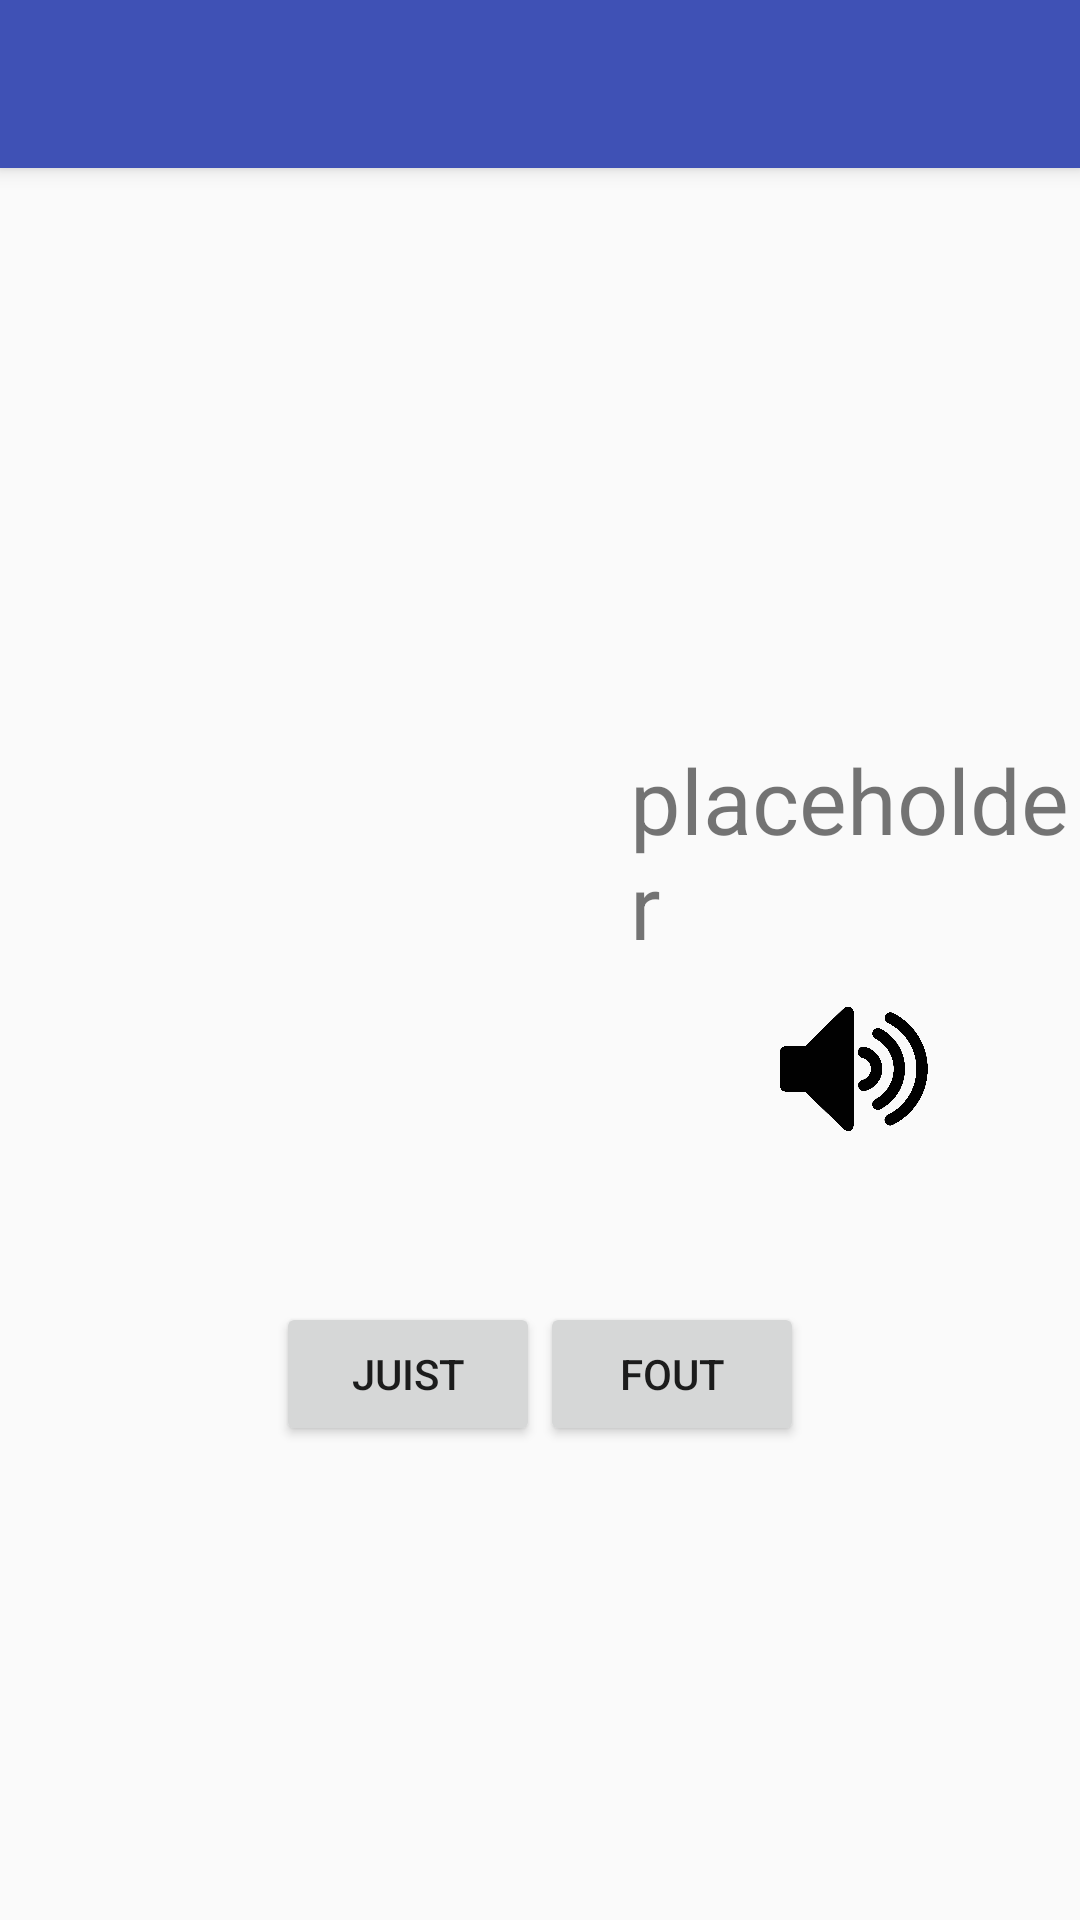

Icon bounding boxes for this 1080*1920 phone screenshot, format (x1, y1, x2, y2):
audioicon: (780, 1007, 928, 1131)
